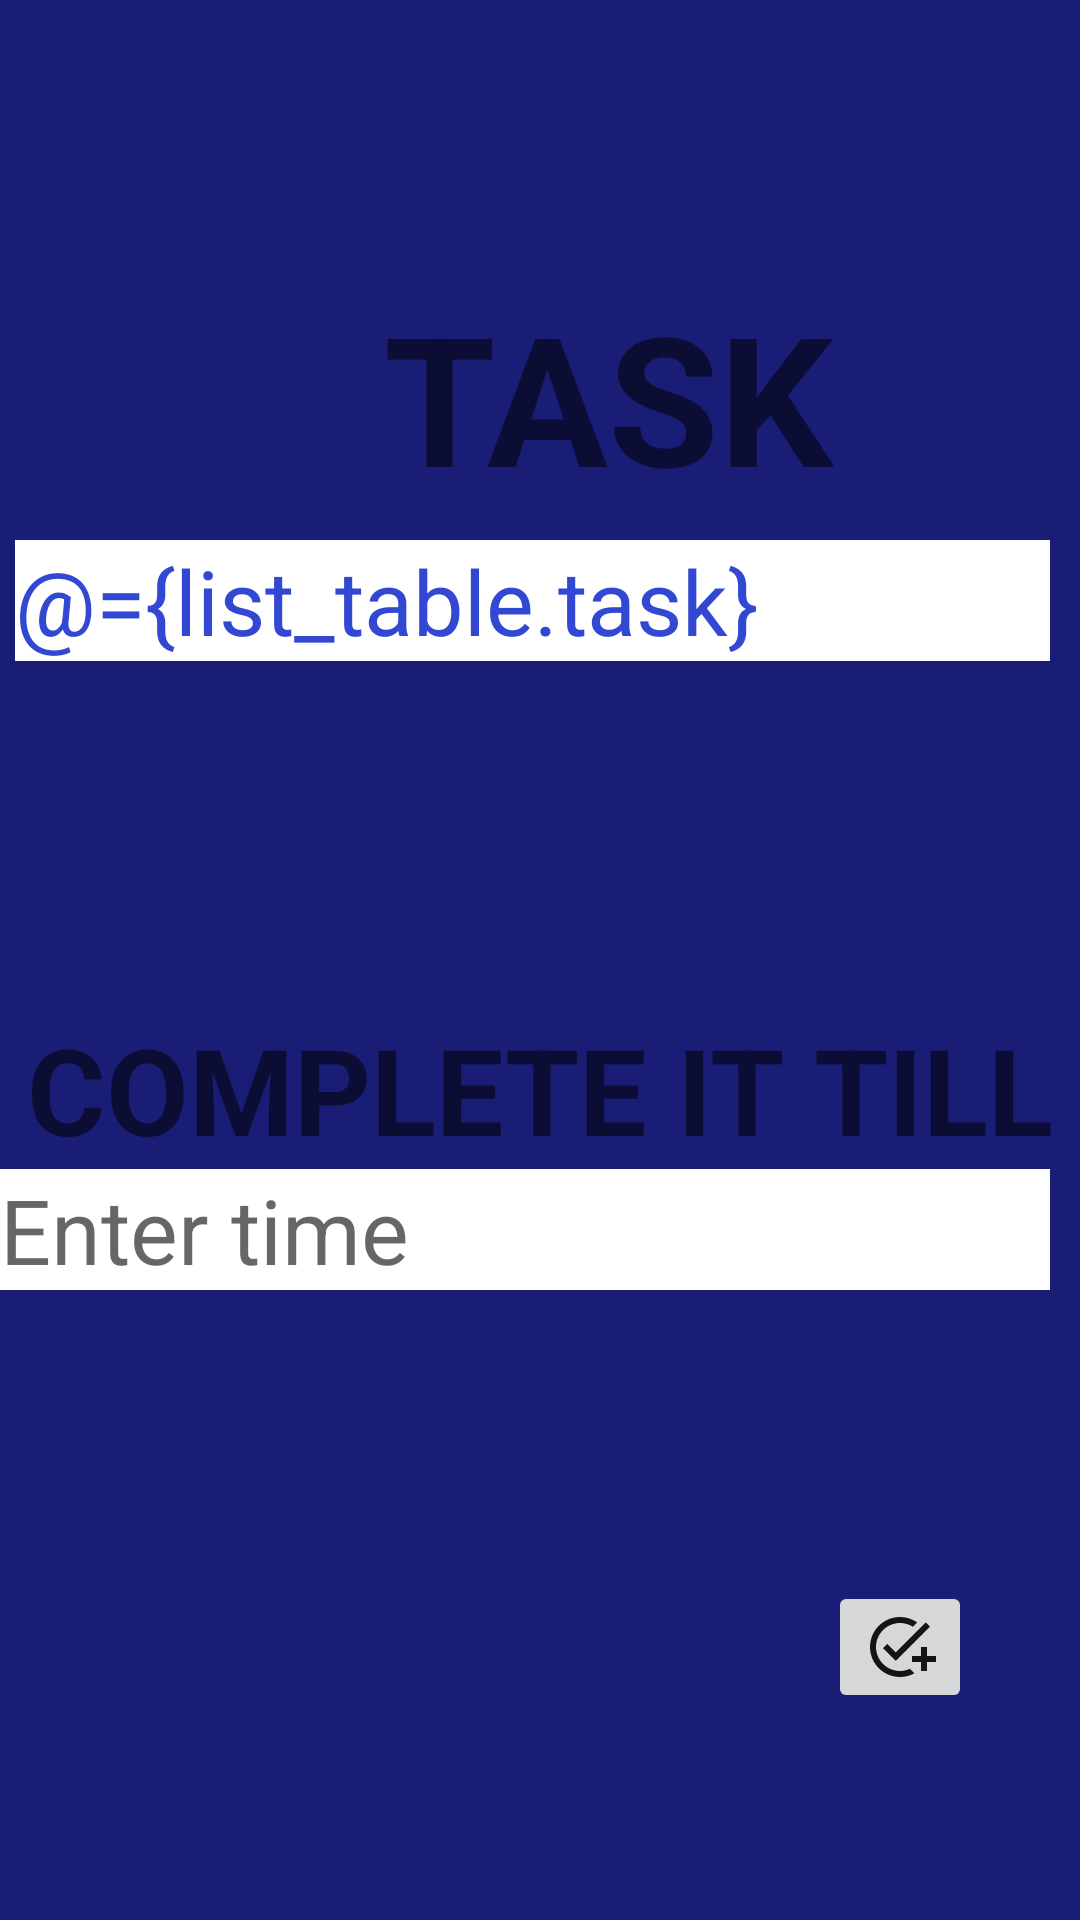

Named icons in this screenshot (1080w x 1920h) and their bounding boxes, (x1, y1, x2, y2):
add task: (840, 1599, 960, 1695)
